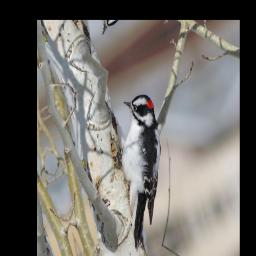Woodpecker: (94, 85, 188, 254)
